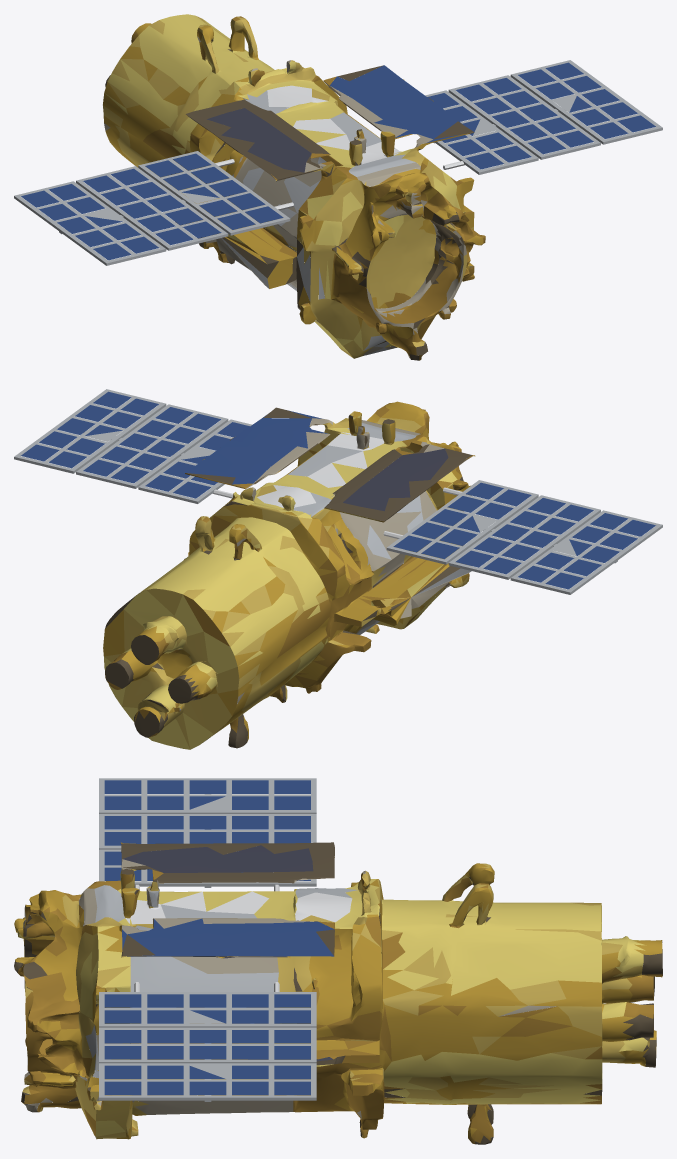
The model's file is xrism.glb.
The picture shows the model from 3 angles, top to bottom: view 1: azimuth 30°, elevation 25°; view 2: azimuth 150°, elevation 25°; view 3: azimuth 270°, elevation 25°; orthographic projection. The views are drawn at different scales.
Parts seen in each view (by area): view 1: foil, body, solar-panel; view 2: foil, body, solar-panel; view 3: foil, body, solar-panel.
Boxes of the visible parts, box(x1,y1,x2,y2) form: foil: box(103, 14, 485, 360); body: box(14, 36, 662, 360); solar-panel: box(21, 62, 655, 260); foil: box(103, 401, 475, 749); body: box(14, 389, 662, 748); solar-panel: box(21, 391, 655, 589); foil: box(14, 842, 662, 1143); body: box(14, 778, 662, 1144); solar-panel: box(104, 780, 334, 1094).
Bounding box in the file's own units: 9.2 × 3.47 × 7.9.
